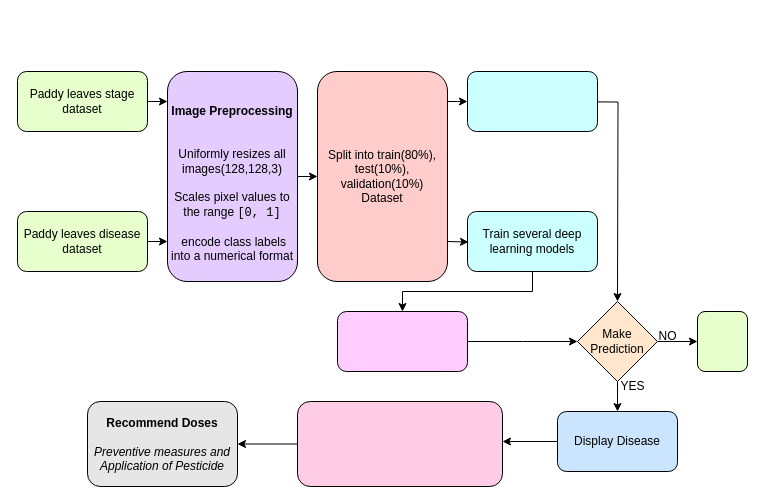
The diagram is 765 pixels wide and 504 high, and some of its shapes have lost their labels. The box of each missing label's shape, as (x1, y1, x2, y2) in pixels:
Apply ensemble (Avg. voting) technique: (336, 310, 468, 372)
Example of Output : Leaf stage: 3 Disease : Tungro: (296, 400, 502, 486)
Healthy Leaf: (696, 310, 748, 372)
Train a basic Neural Network model: (466, 70, 598, 132)
